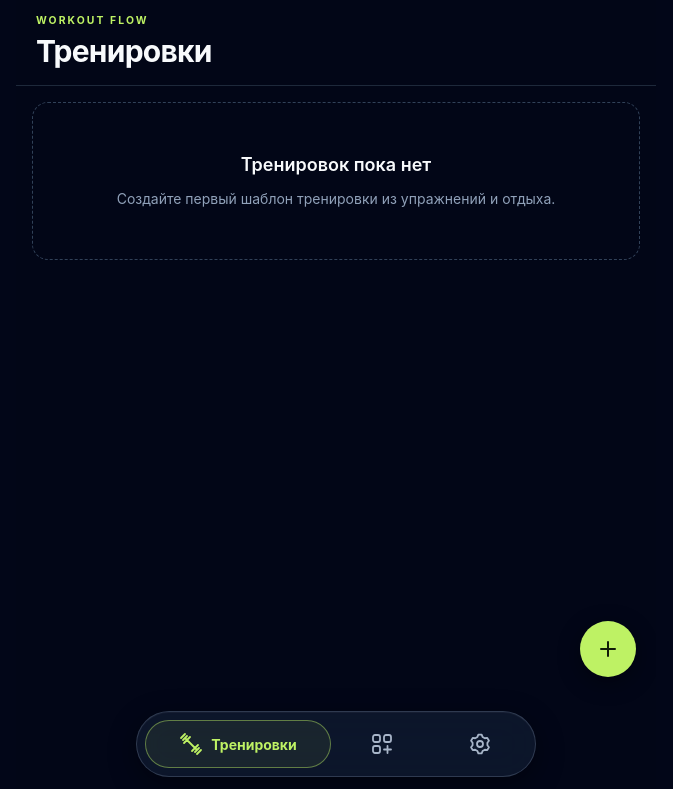
Scenario: workout template creation › adds and saves unique exercise and rest steps without randomUUID
This screenshot has width=673, height=789.
Expected: the heading "Тренировок пока нет" is shown, [241, 154, 431, 175]
Click the button named "Создать тренировку" at (608, 649), box [580, 621, 636, 677]
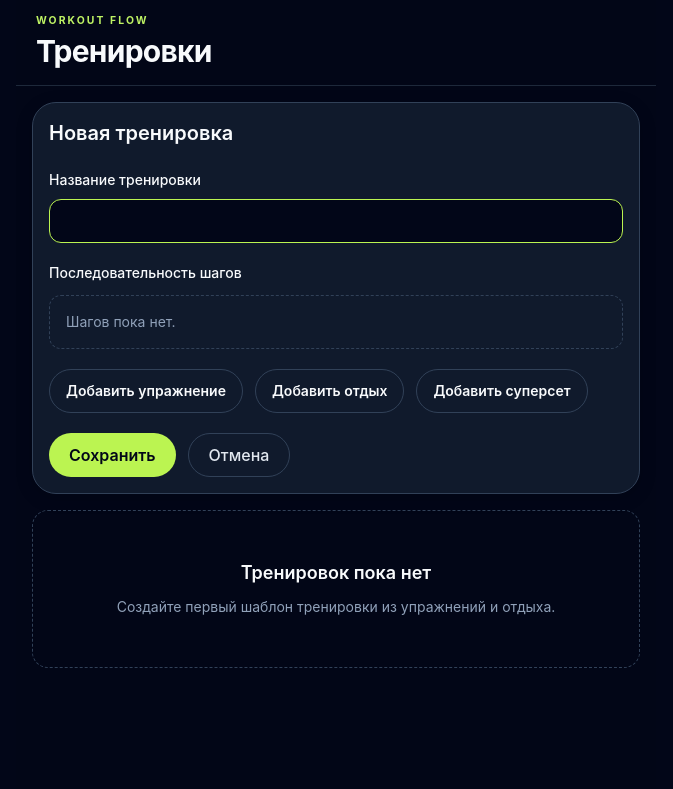
Type "  Круговая  " into the field labelled "Название тренировки" at (336, 221), box [49, 199, 623, 243]
Click the button "Добавить упражнение" at (146, 391), box [49, 369, 243, 413]
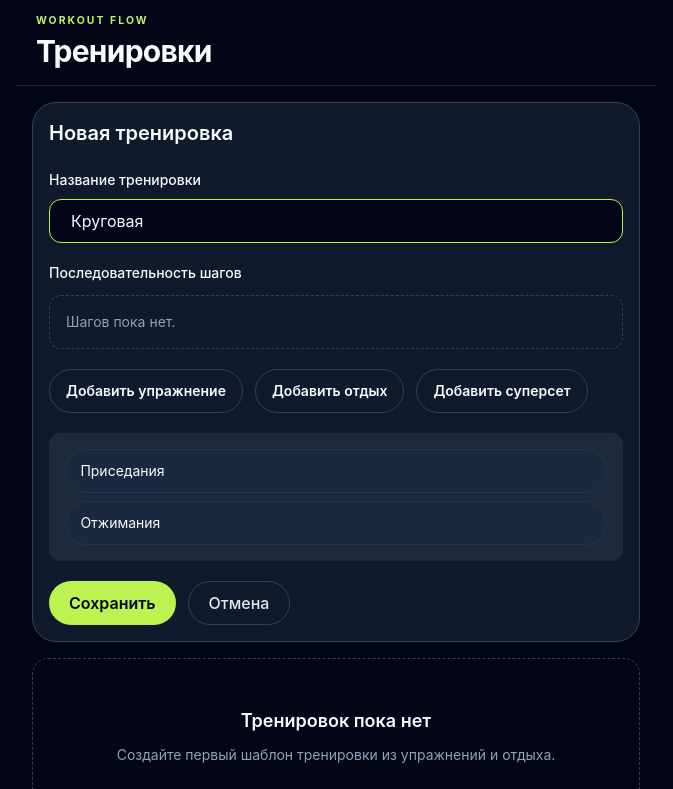
Click the button "Приседания" at (122, 470), box [65, 449, 607, 493]
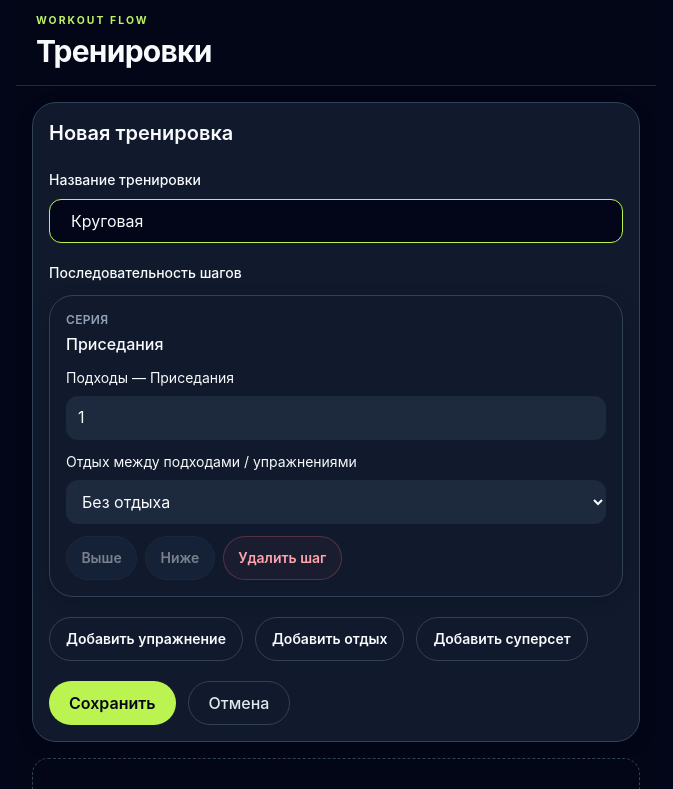
Click the button "Добавить отдых" at (330, 639), box [255, 617, 404, 661]
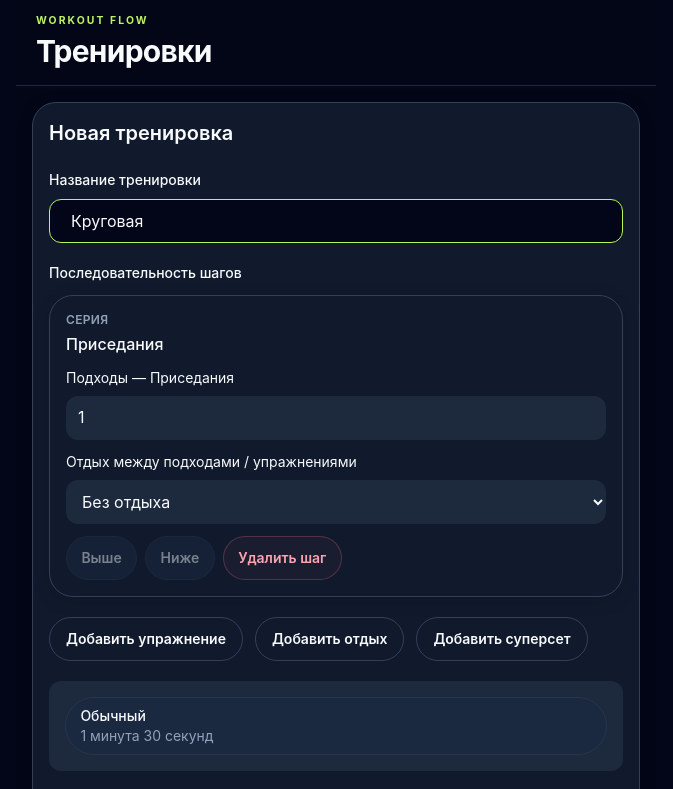
Click the button "Обычный 1 минута 30 секунд" at (113, 715), box [65, 697, 607, 755]
(page scrolled)
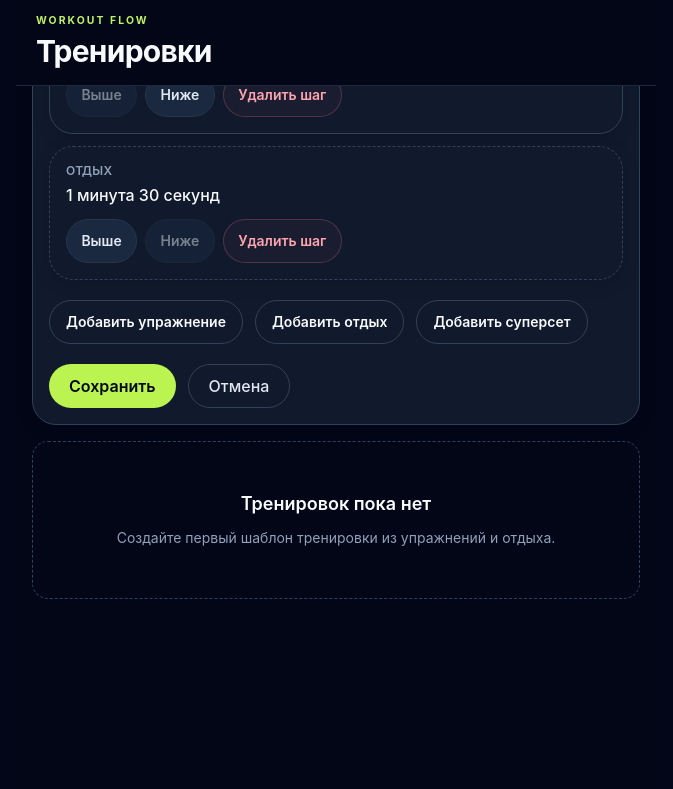
Click the button "Сохранить" at (112, 386), box [49, 364, 176, 408]
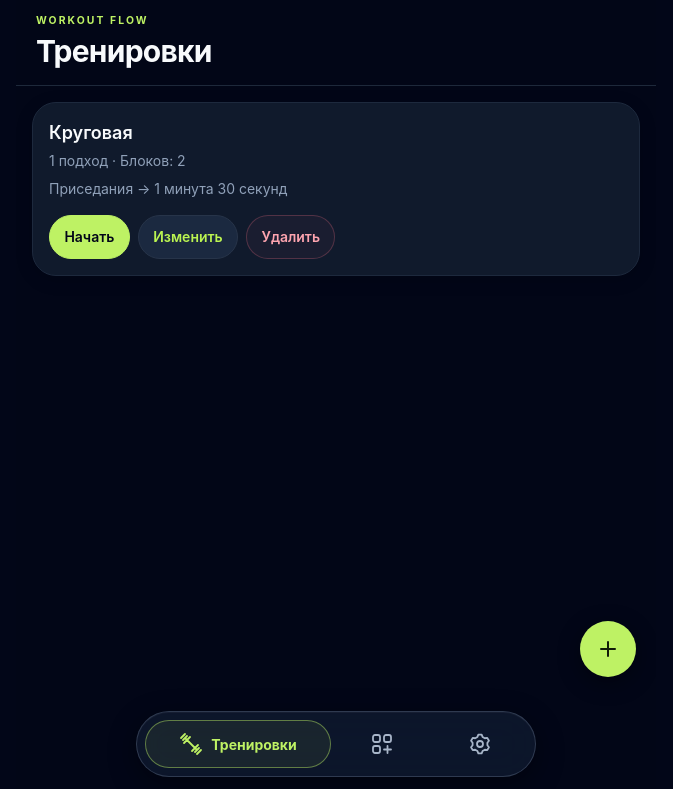
Expected: the heading "Круговая" is shown, [49, 122, 133, 143]
Expected: the text "1 подход · Блоков: 2" is shown, [49, 152, 186, 169]
